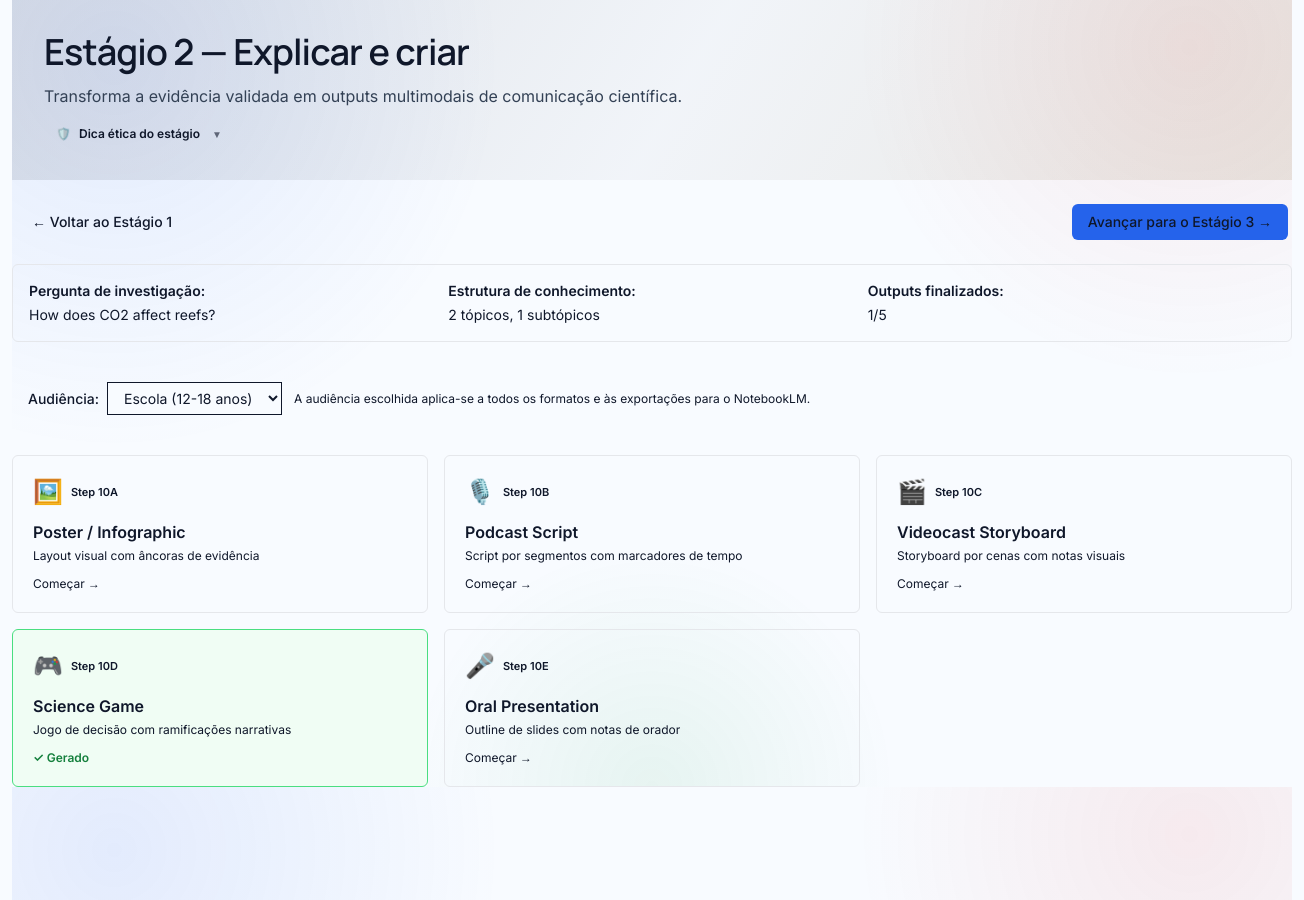
Test: Stage 2 output pages: script / where to create / PowerPoint › game: the generated scenario is playable on the page
Click the button "Step 10D" at (89,706), box [12,629,428,787]
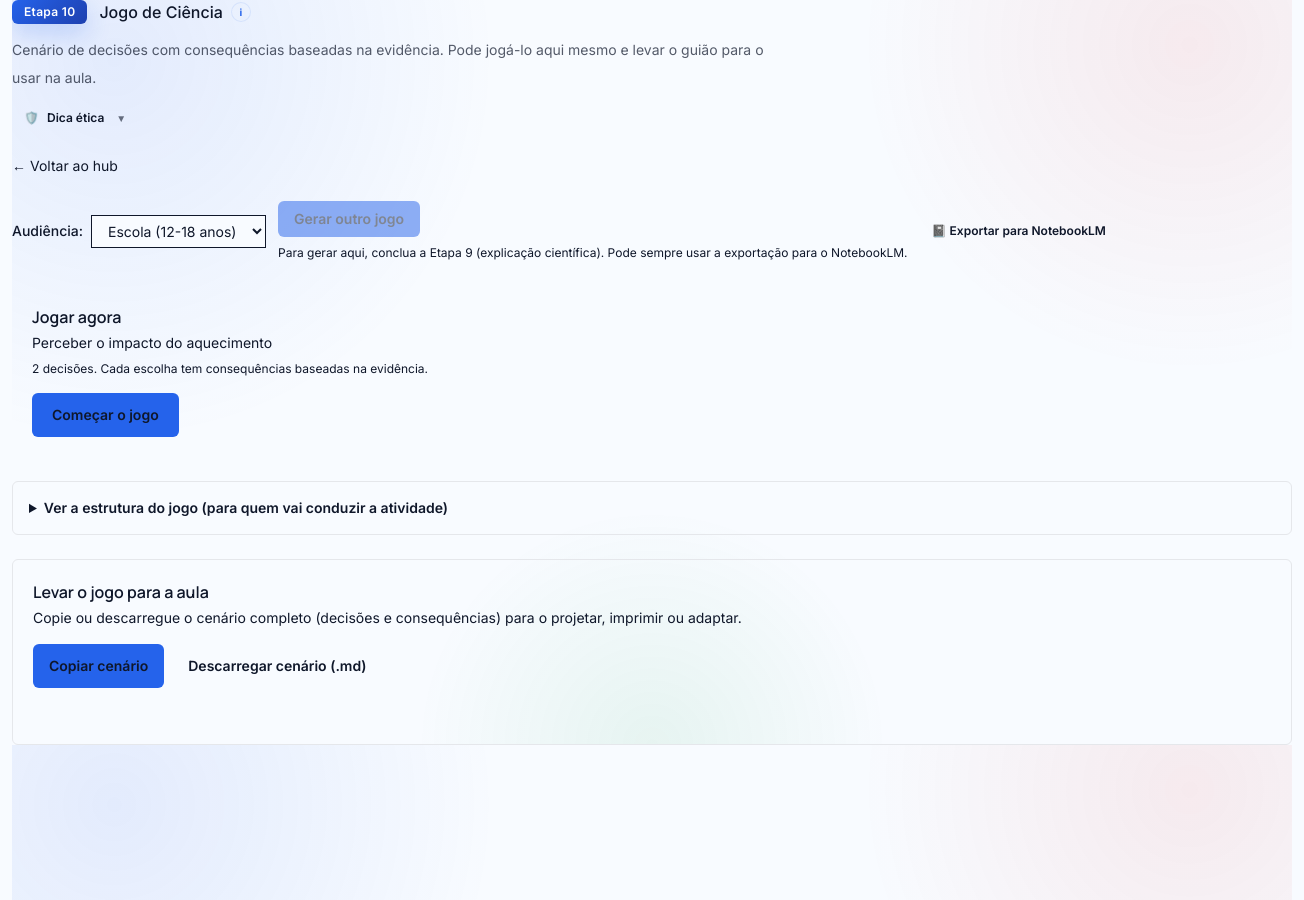
Click the button "Começar o jogo" at (105,415), box [32,393,179,437]
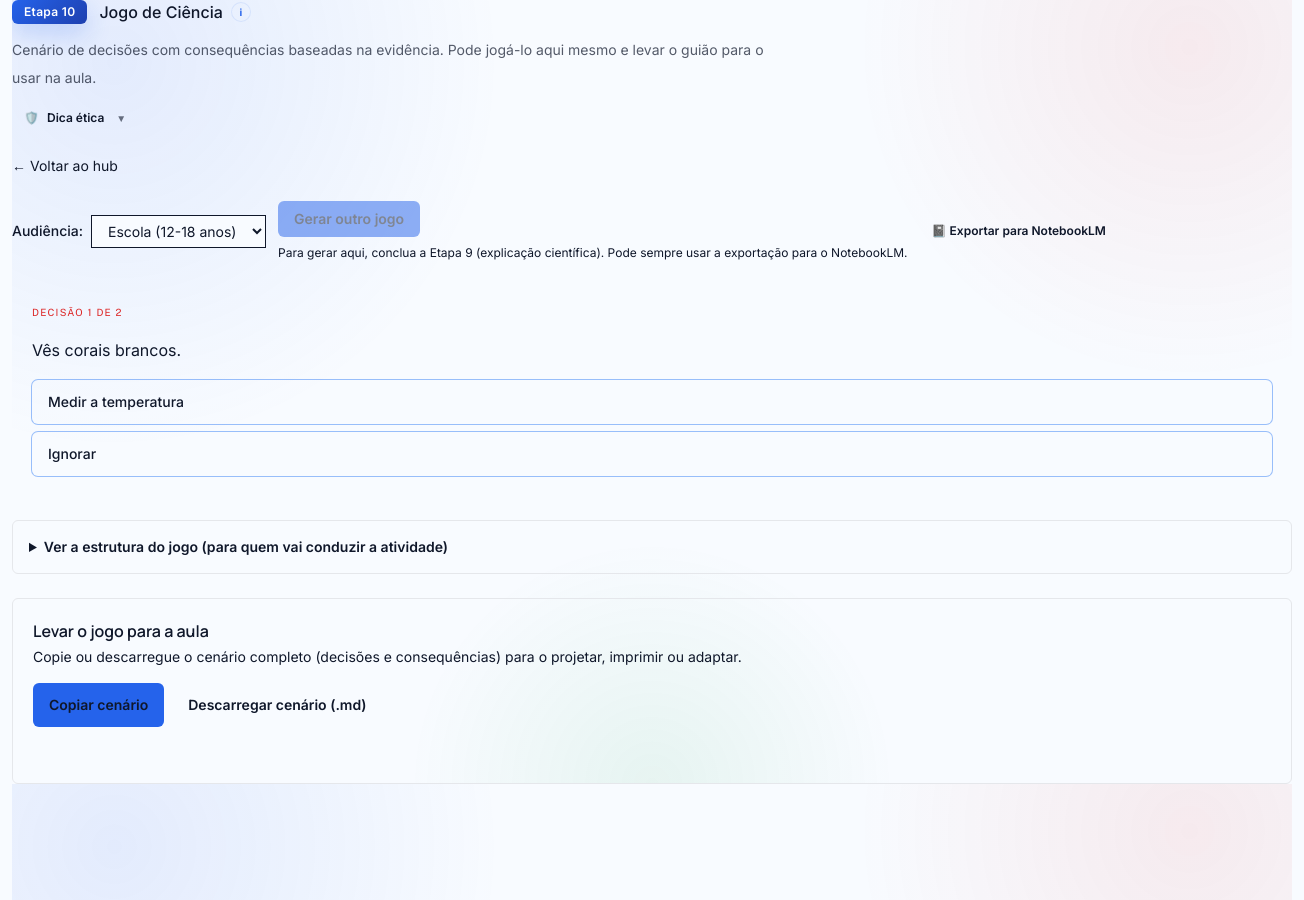
Check: the button "Gerar outro jogo" is shown, box [278,201,420,237]
Check: the button "Medir a temperatura" is shown, box [32,380,1272,424]
